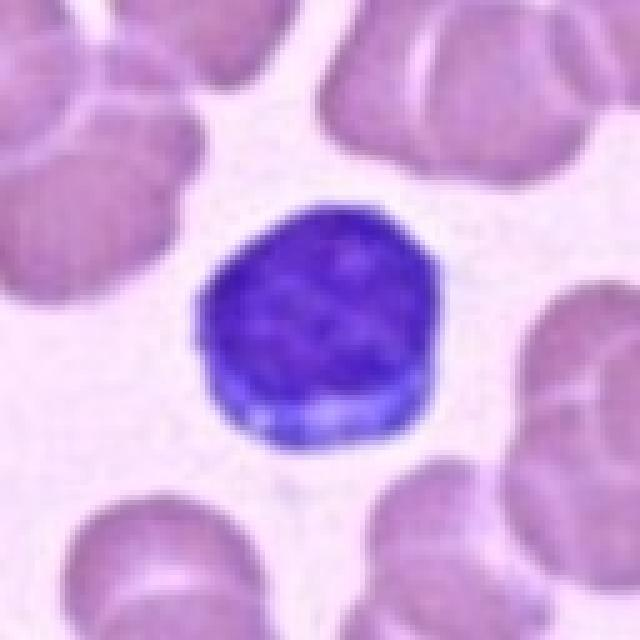lympho: (186, 191, 445, 460)
